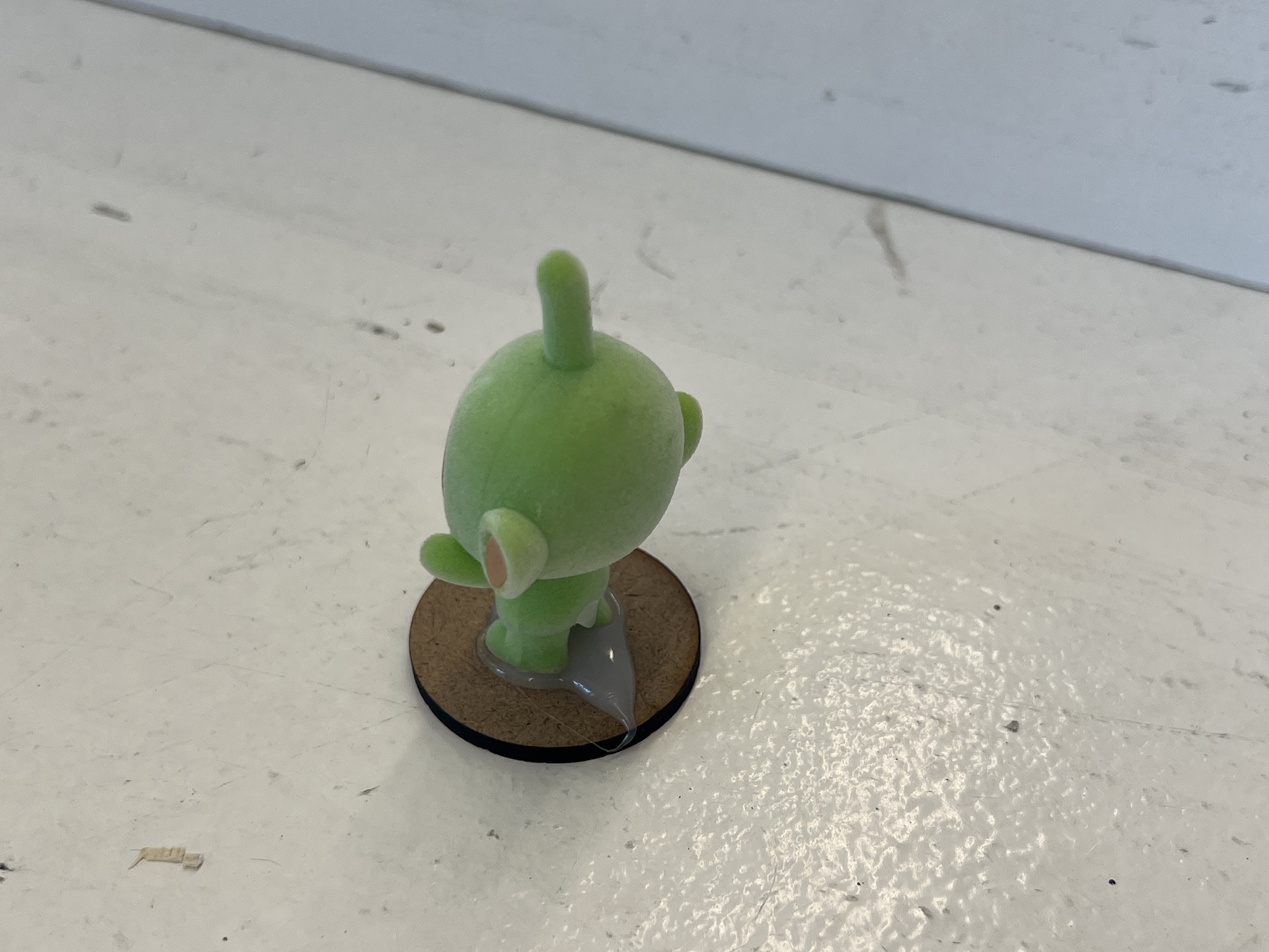teletubby: (421, 250, 702, 672)
